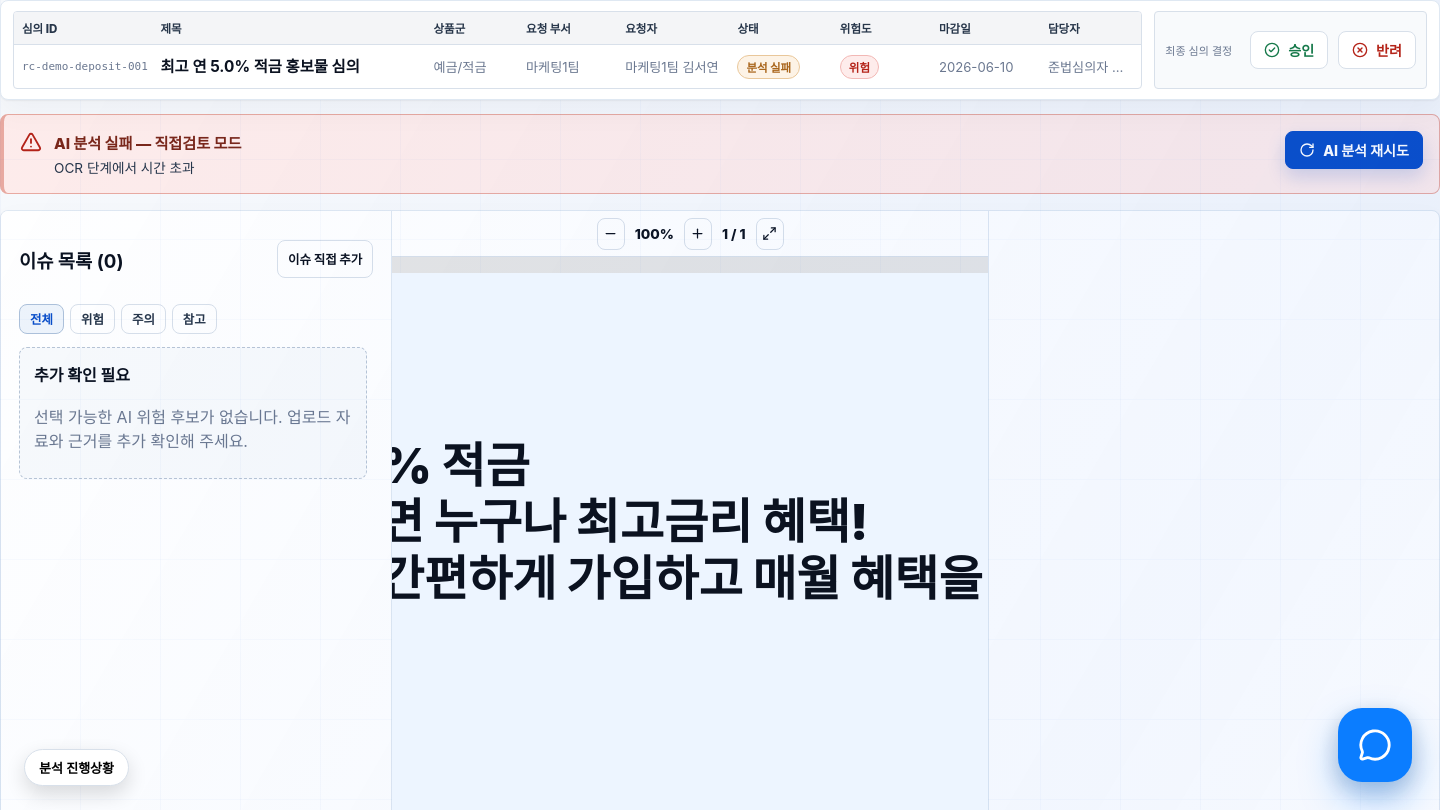
Test: ReviewDetailWorkspace › shows the AI-failure banner with the failure reason and retries analysis
This screenshot has width=1440, height=810.
Expected: the text "AI 분석 실패 — 직접검토 모드" is shown, top-left (54, 134), bottom-right (242, 153)
Expected: the text "OCR 단계에서 시간 초과" is shown, top-left (54, 160), bottom-right (195, 176)
Click the button "AI 분석 재시도" at (1354, 150), box top-left (1285, 131), bottom-right (1423, 169)
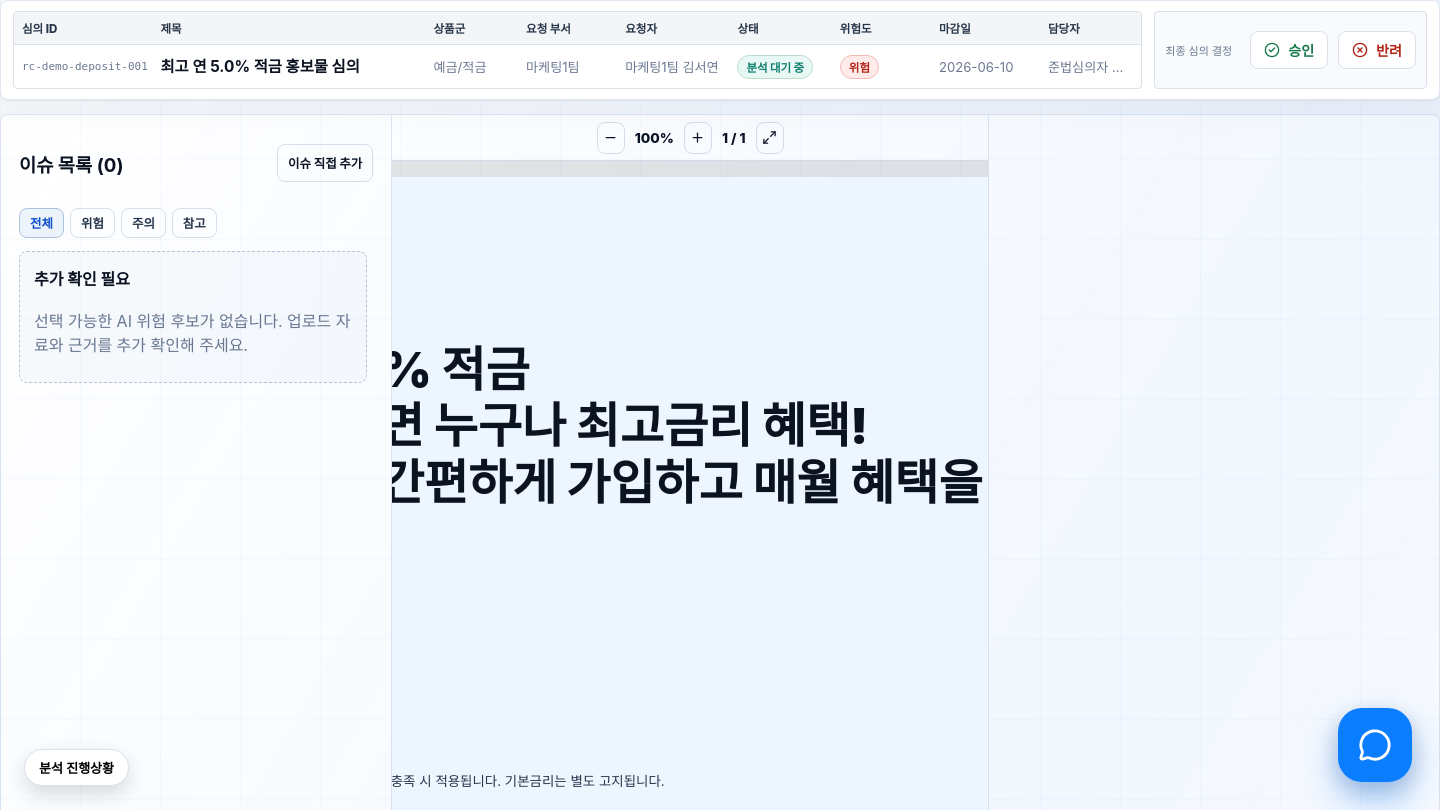
Expected: the text "AI 분석 실패 — 직접검토 모드" is gone
